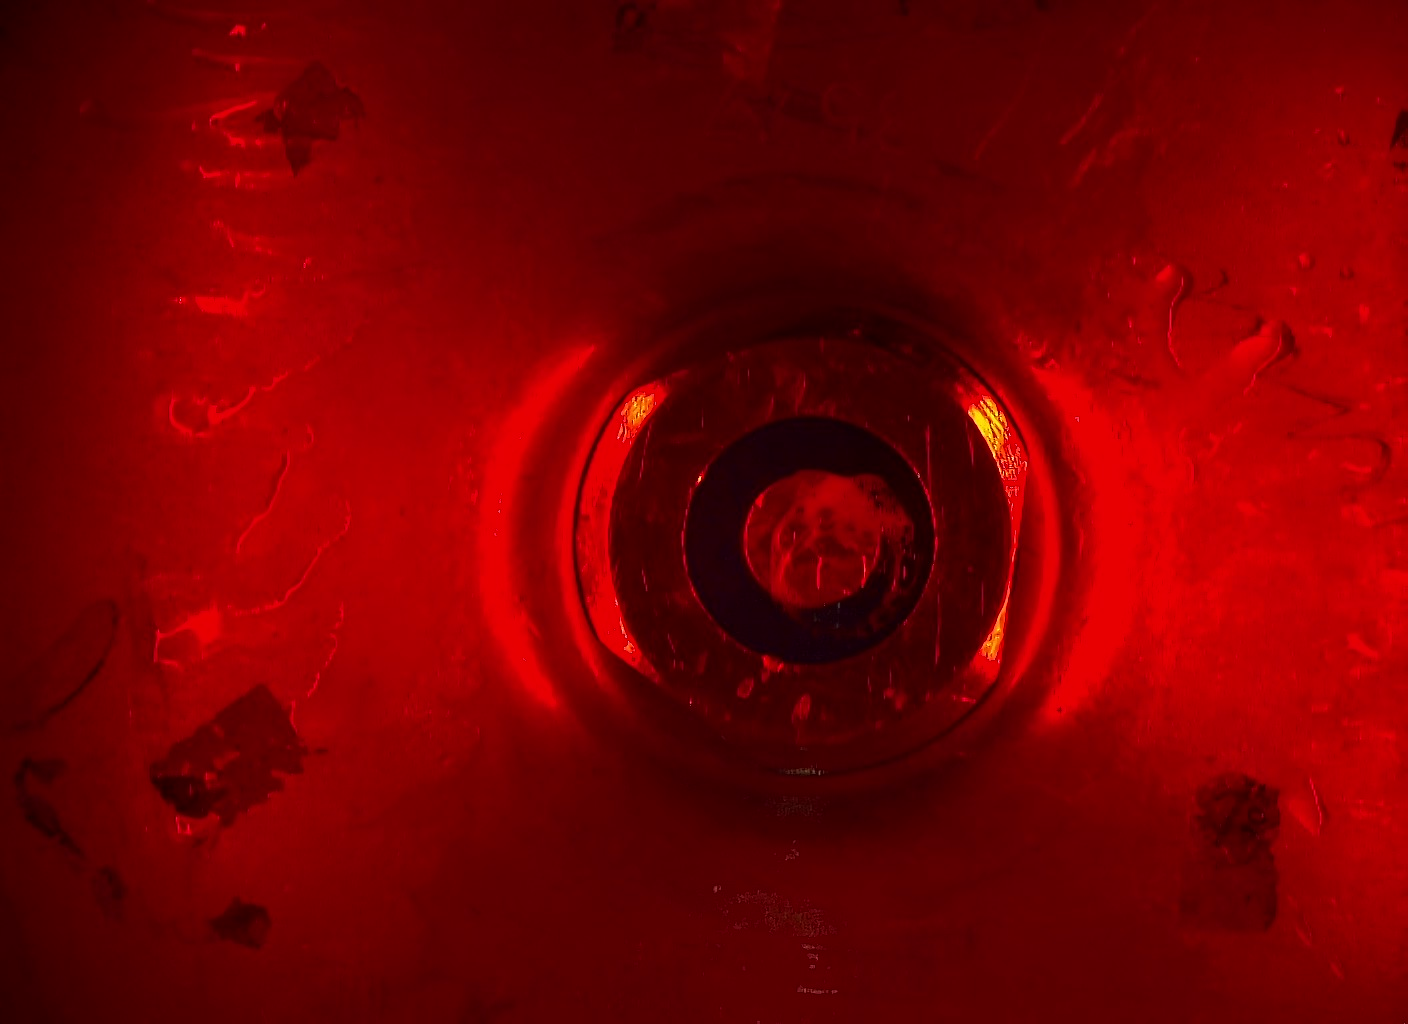pena: (758, 464, 923, 646)
